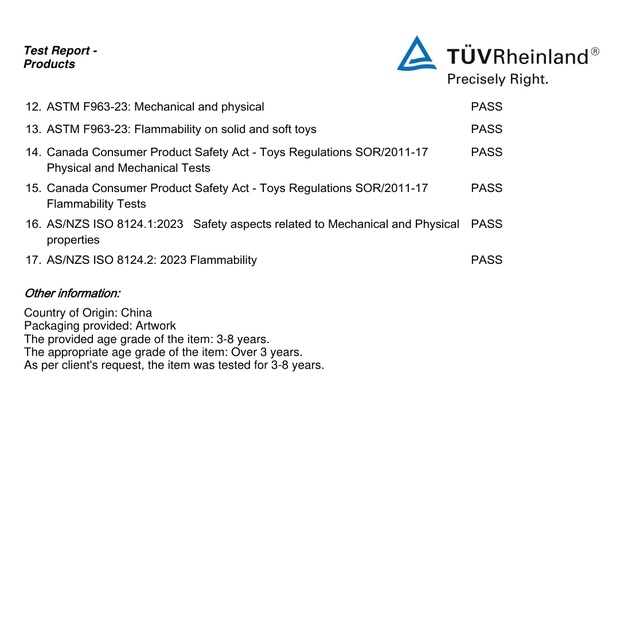tuv_rheinland: (389, 36, 607, 73)
